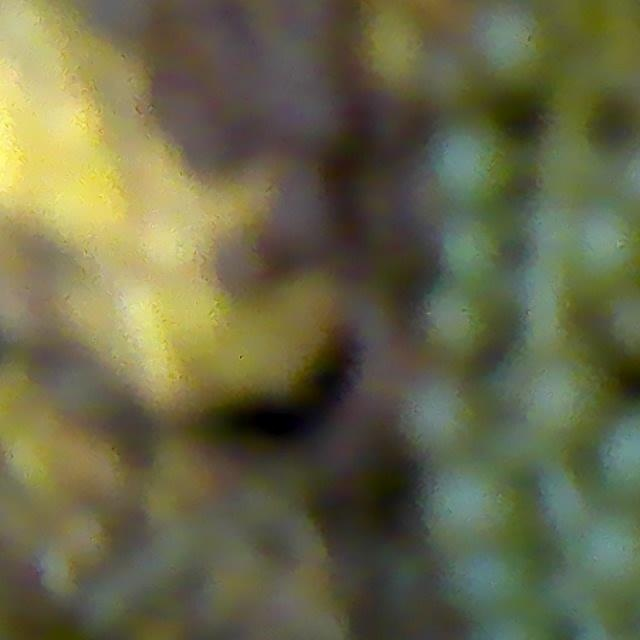SeaGrape: (422, 451, 525, 556), (430, 122, 520, 212), (525, 364, 614, 451), (471, 9, 560, 95), (399, 386, 484, 470), (564, 209, 640, 300), (449, 538, 534, 617), (582, 507, 640, 609), (428, 287, 499, 367), (443, 217, 509, 288)
